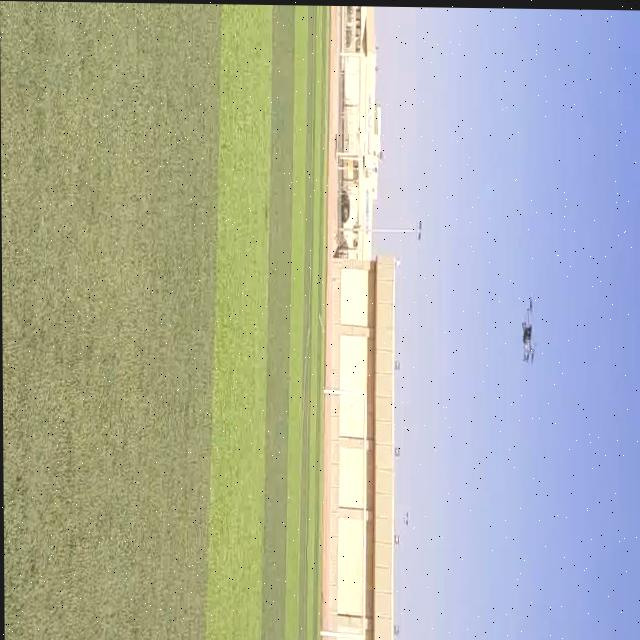drone: (514, 290, 540, 370)
